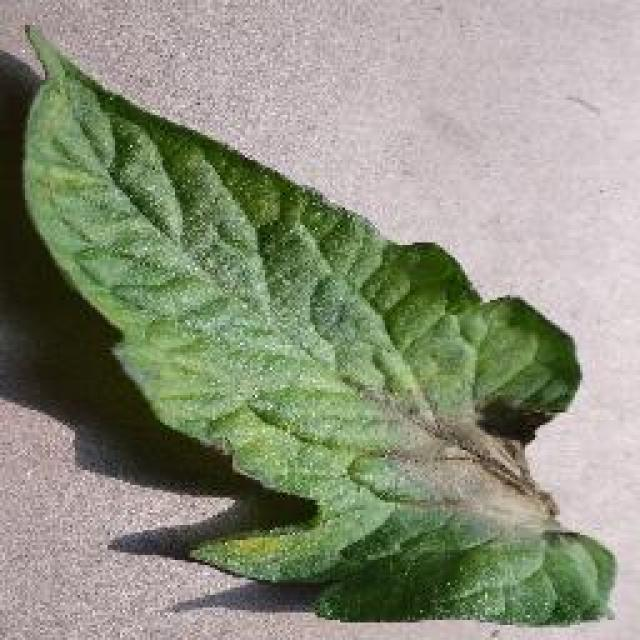Tomato late blight leaf: (18, 19, 622, 628)
